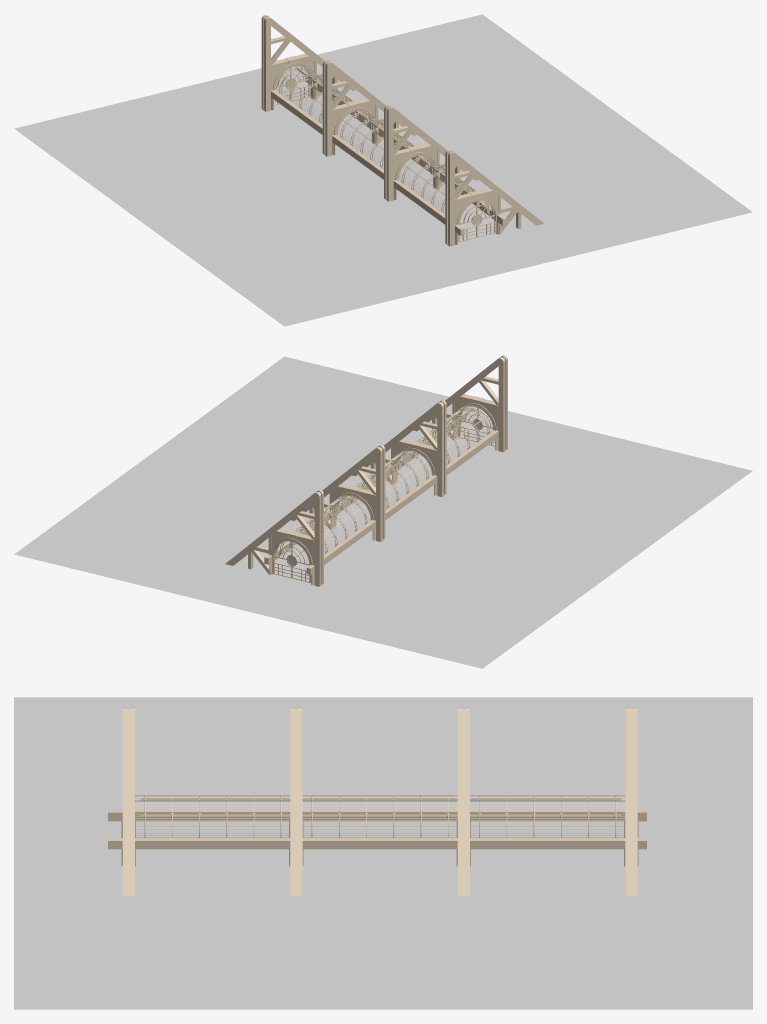
The model's file is building.dae.
3 views of the same model, one above another, from view 1: azimuth 30°, elevation 25°; view 2: azimuth 150°, elevation 25°; view 3: azimuth 270°, elevation 25° (orthographic). The views are drawn at different scales.
Parts seen in each view (by area): view 1: Plane_001, Mesh; view 2: Plane_001, Mesh; view 3: Plane_001, Mesh.
Part boxes in pixels (<box>): Plane_001: <box>14,14,752,326</box>; Mesh: <box>261,14,543,246</box>; Plane_001: <box>14,356,752,668</box>; Mesh: <box>225,355,507,586</box>; Plane_001: <box>14,697,752,1009</box>; Mesh: <box>108,707,646,896</box>.
Bounding box in the file's own units: 2 × 2 × 0.385.
